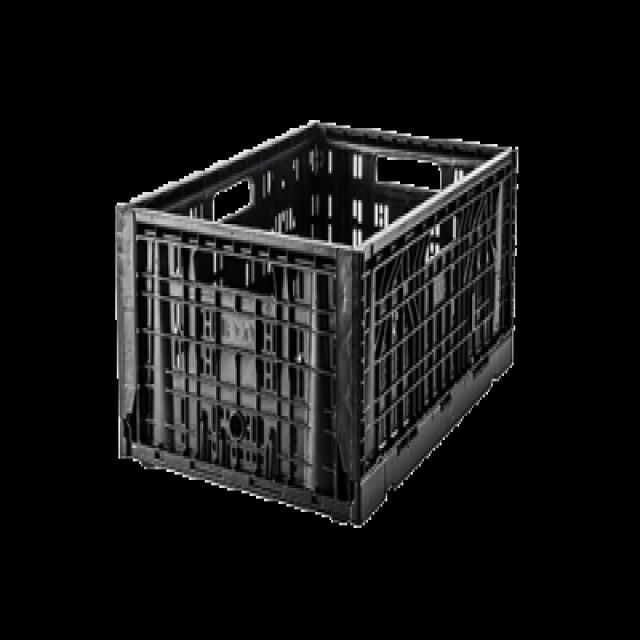basket: (112, 118, 518, 526)
